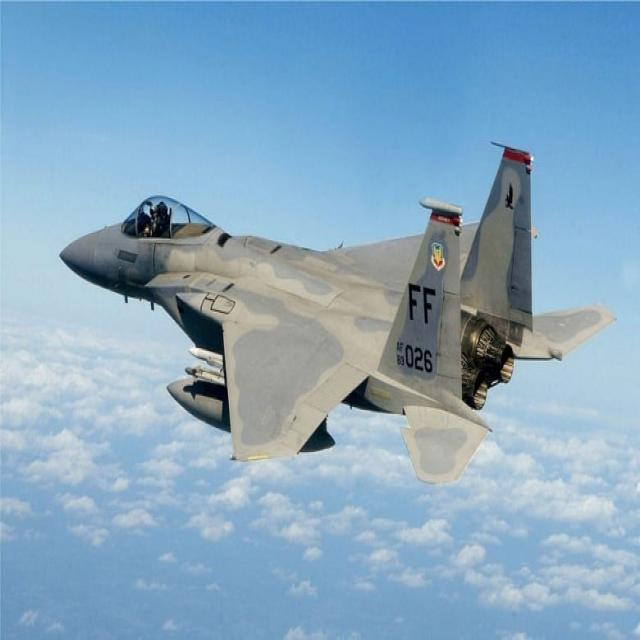F15: (41, 122, 619, 526)
